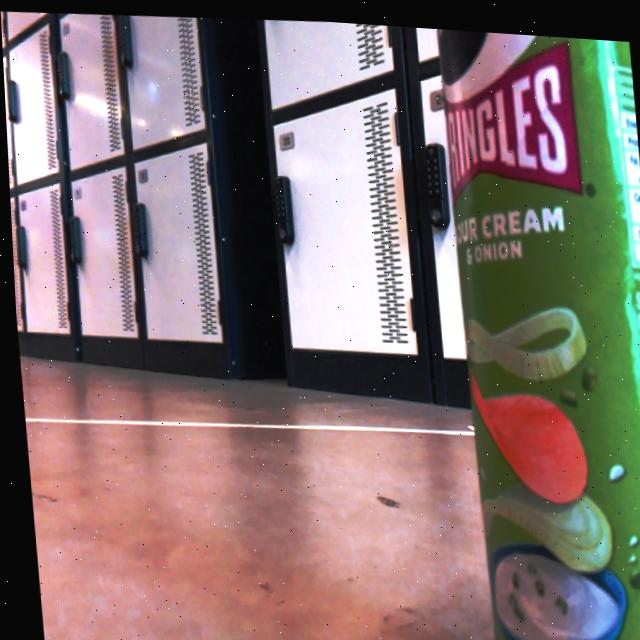greenpringles: (424, 22, 640, 640)
